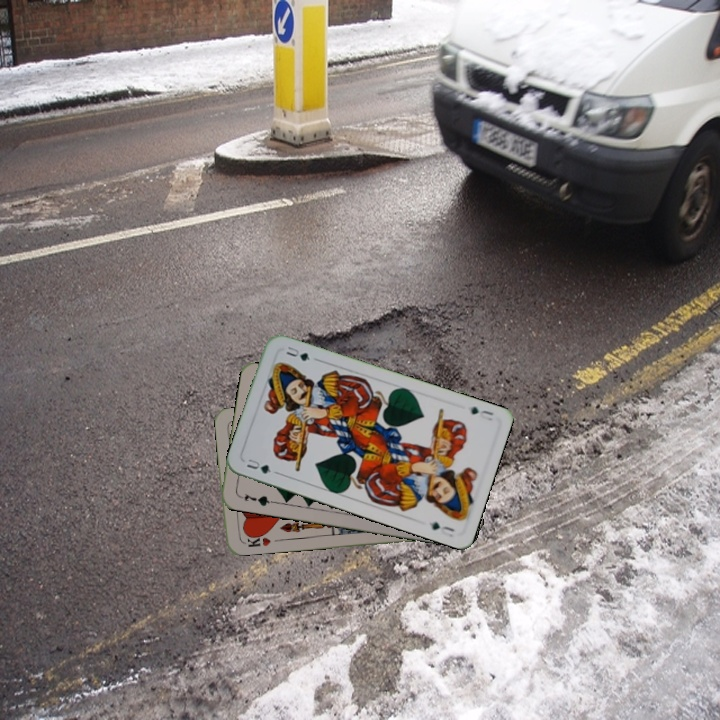G7: (235, 489, 275, 509)
GU: (466, 402, 498, 423), (243, 455, 274, 476)
HK: (239, 529, 273, 550)
